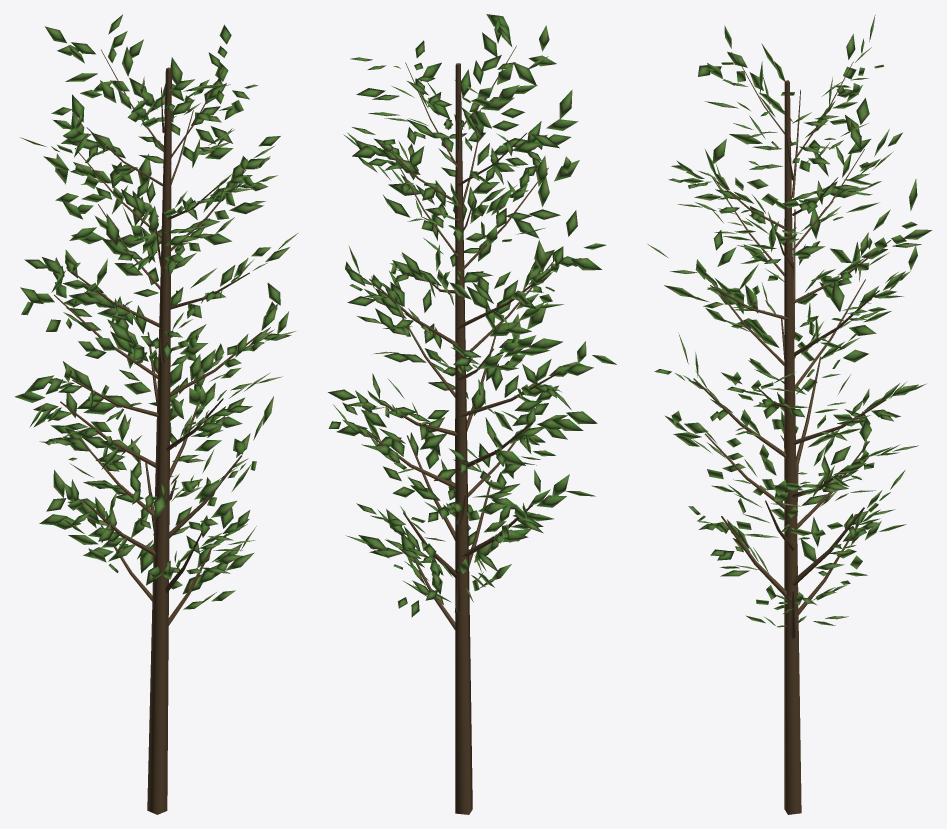
3 renders of one model, left to right at view 1: azimuth 30°, elevation 25°; view 2: azimuth 150°, elevation 25°; view 3: azimuth 270°, elevation 25°, orthographic.
Visible parts, largest first — view 1: t11 browser / editable leafy twigs, t11 browser / editable woody branches; view 2: t11 browser / editable leafy twigs, t11 browser / editable woody branches; view 3: t11 browser / editable leafy twigs, t11 browser / editable woody branches.
Boxes of the visible parts, box(x1,y1,x2,y2) form: t11 browser / editable leafy twigs: box(14, 14, 297, 609); t11 browser / editable woody branches: box(54, 49, 261, 814); t11 browser / editable leafy twigs: box(328, 14, 616, 617); t11 browser / editable woody branches: box(367, 45, 560, 814); t11 browser / editable leafy twigs: box(647, 15, 932, 627); t11 browser / editable woody branches: box(693, 58, 890, 814).
Bounding box in the file's own units: 1.03 × 2.96 × 1.01.
